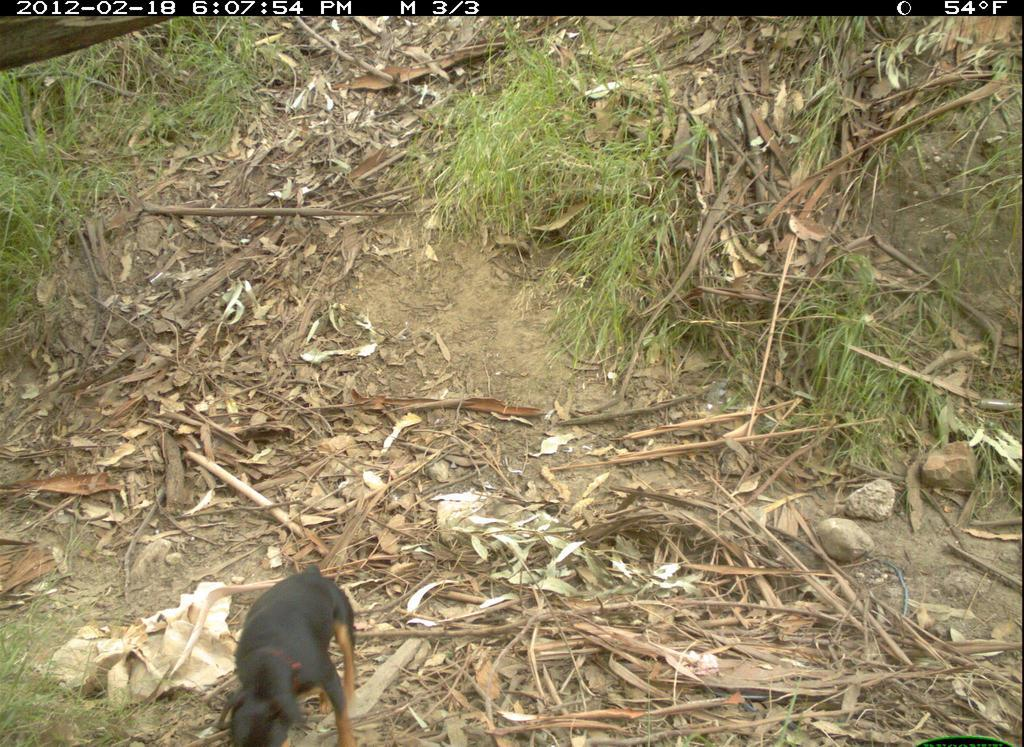dog: (223, 571, 400, 747)
